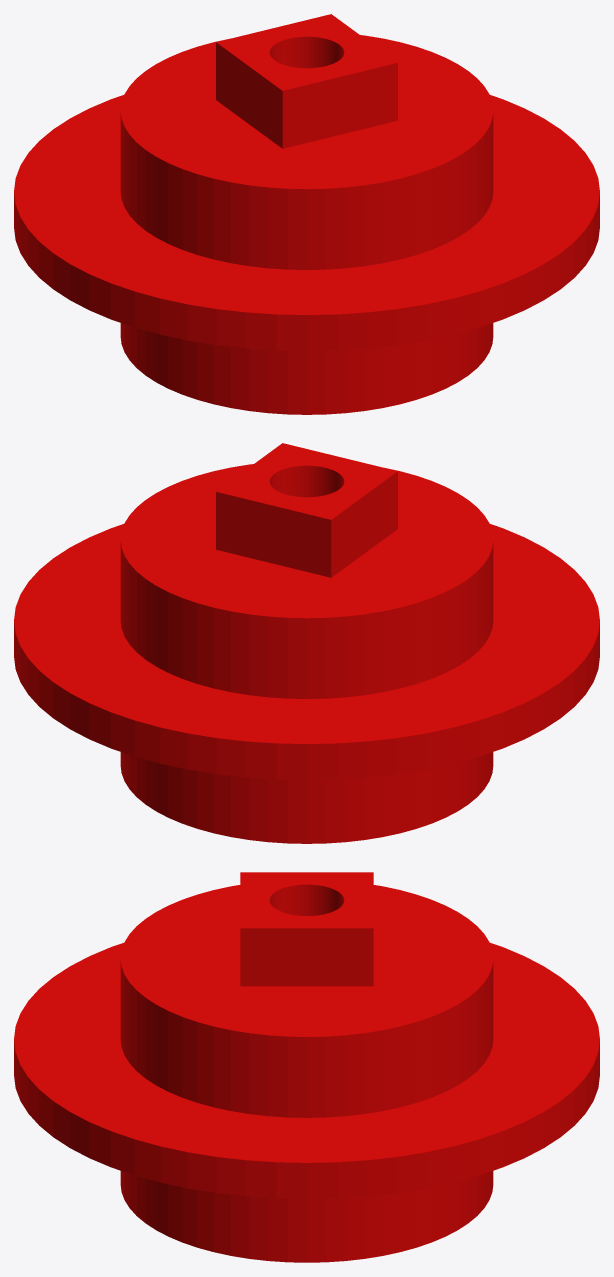
File: axe-mtr_PCBWay Community.002.dae
The picture shows the model from 3 angles, top to bottom: view 1: azimuth 30°, elevation 25°; view 2: azimuth 150°, elevation 25°; view 3: azimuth 270°, elevation 25°; orthographic projection.
Parts seen in each view (by area): view 1: tmp_export_axe-mtr_PCBWay Community.002; view 2: tmp_export_axe-mtr_PCBWay Community.002; view 3: tmp_export_axe-mtr_PCBWay Community.002.
Boxes of the visible parts, x1=… form: tmp_export_axe-mtr_PCBWay Community.002: x1=14, y1=14, x2=599, y2=414; tmp_export_axe-mtr_PCBWay Community.002: x1=14, y1=443, x2=599, y2=843; tmp_export_axe-mtr_PCBWay Community.002: x1=14, y1=872, x2=599, y2=1262.
Bounding box in the file's own units: 0.022 × 0.022 × 0.0117.
